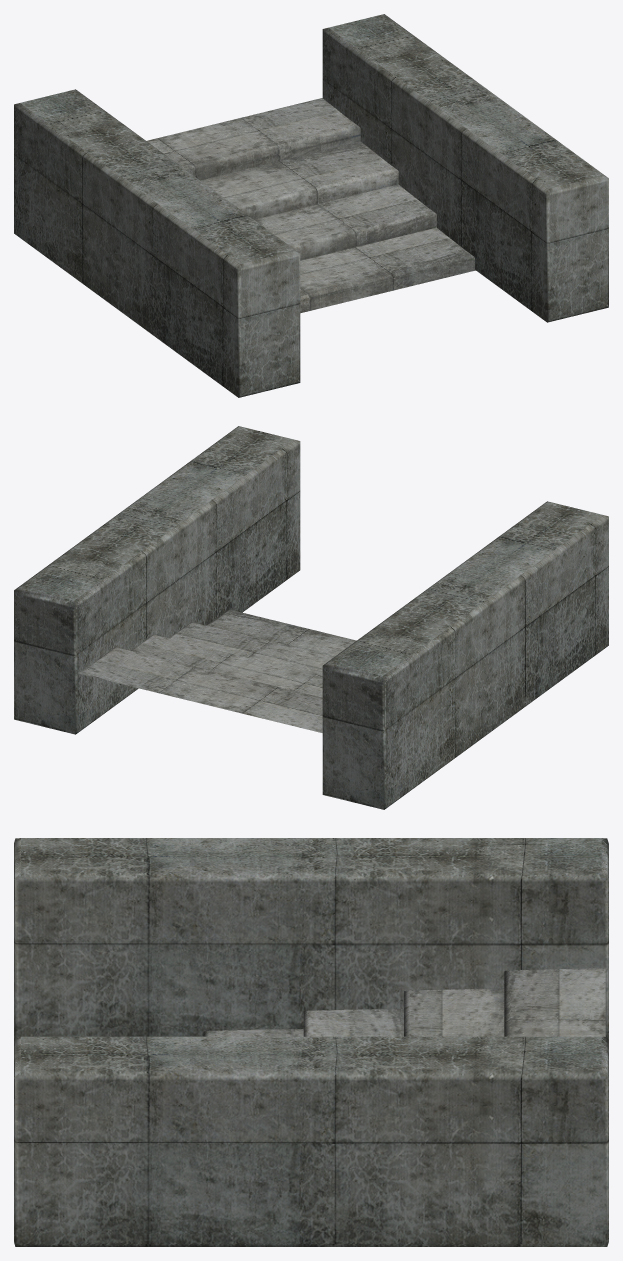
Rendered from dungeon_stairs.glb.
3 renders of one model, top to bottom at view 1: azimuth 30°, elevation 25°; view 2: azimuth 150°, elevation 25°; view 3: azimuth 270°, elevation 25°, orthographic. The views are drawn at different scales.
Parts seen in each view (by area): view 1: Object_2; view 2: Object_2; view 3: Object_2.
Part boxes in pixels (x1,y1,x2,y2): Object_2: [14, 14, 608, 397]; Object_2: [14, 426, 608, 809]; Object_2: [14, 838, 608, 1246].
Bounding box in the file's own units: 6.03 × 2.03 × 6.33.
Materials: 1 (1 with a texture image).
